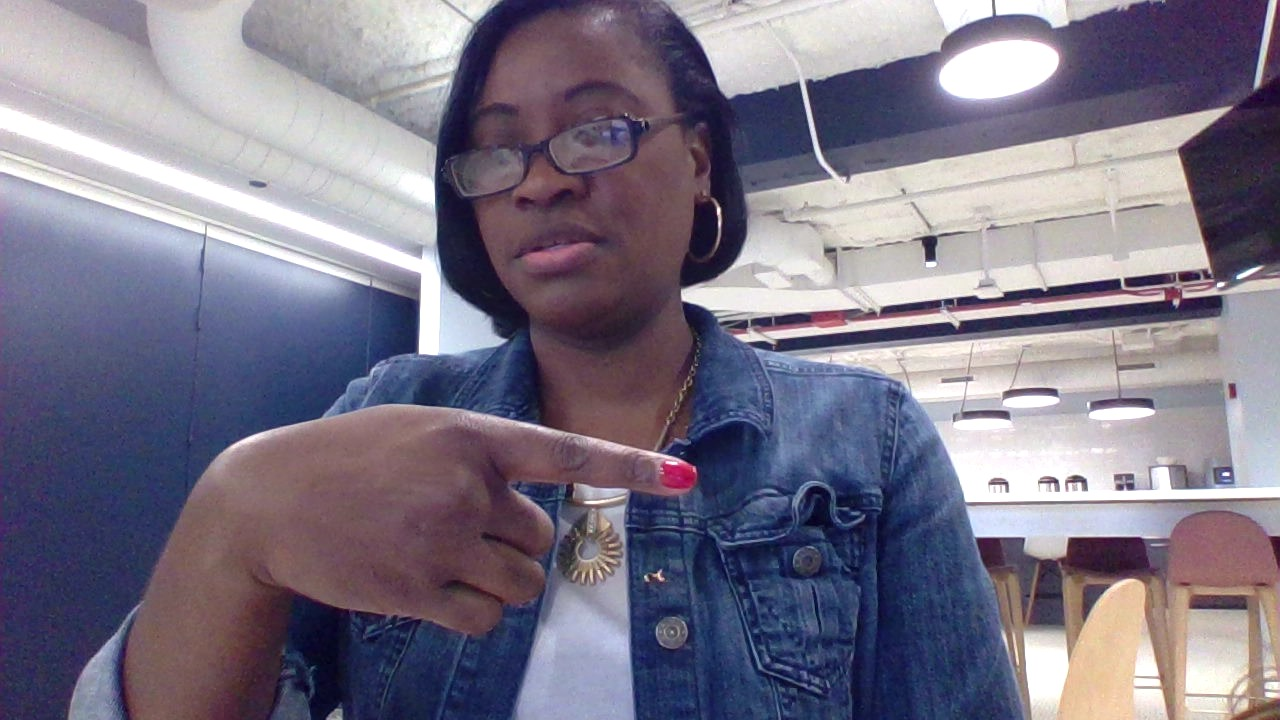g: (150, 388, 719, 651)
